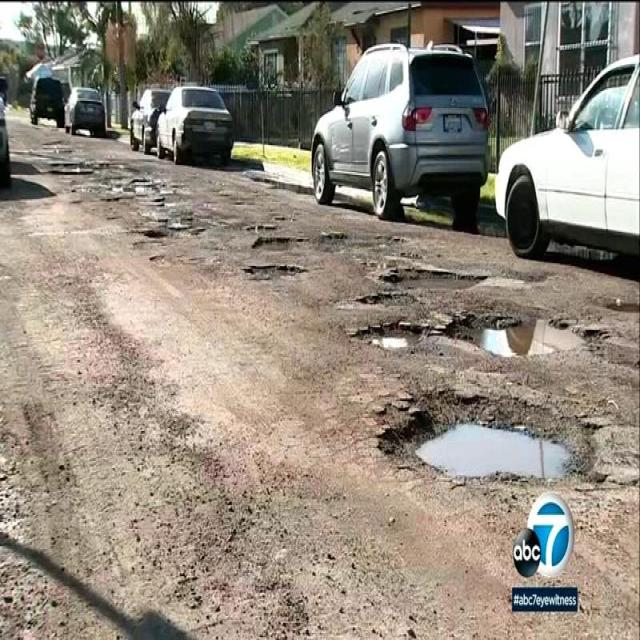pothole: (381, 402, 590, 493), (439, 306, 586, 367), (374, 260, 495, 300), (352, 317, 422, 358), (244, 258, 303, 282), (601, 296, 640, 314)
